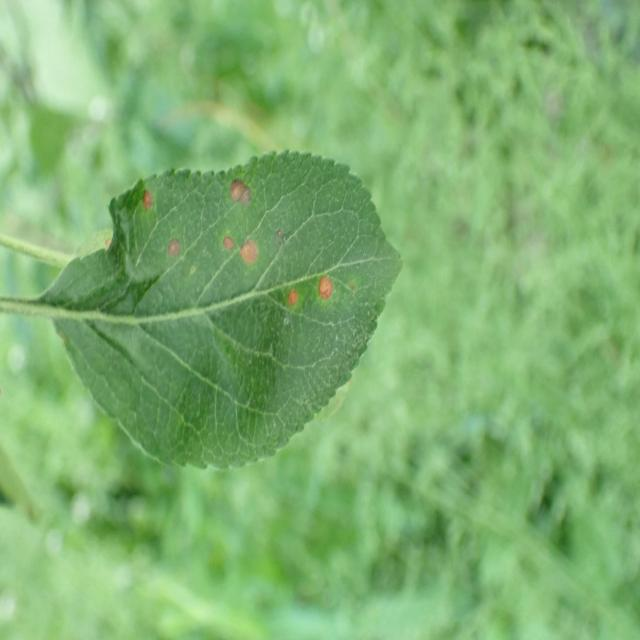frog-eye-leaf-spot: (40, 151, 404, 474)
